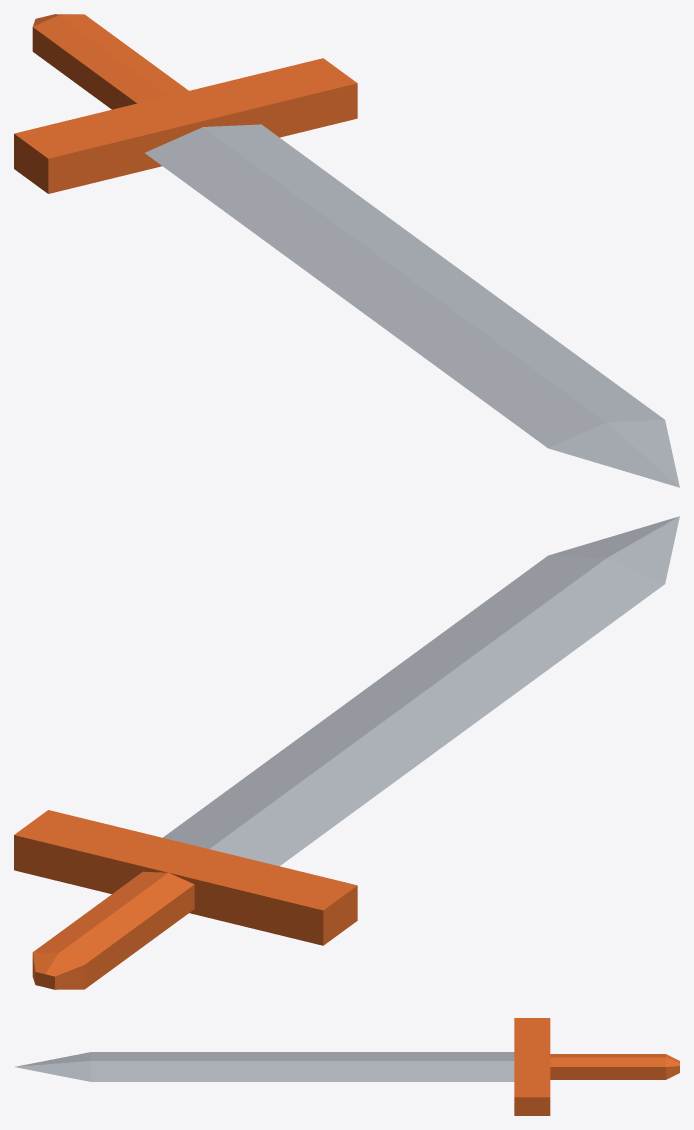
The model's file is steel_broad_sword.glb.
3 renders of one model, top to bottom at view 1: azimuth 30°, elevation 25°; view 2: azimuth 150°, elevation 25°; view 3: azimuth 270°, elevation 25°, orthographic. The views are drawn at different scales.
Parts seen in each view (by area): view 1: Cube; view 2: Cube; view 3: Cube.
Part boxes in pixels (x1,y1,x2,y2): Cube: (14,14,679,487); Cube: (14,516,679,989); Cube: (15,1018,679,1115).
Bounding box in the file's own units: 4.87 × 0.5315 × 17.3.
